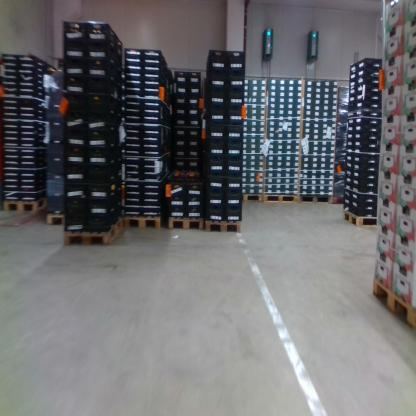pallet: (369, 273, 415, 336), (62, 216, 125, 250), (339, 205, 376, 231), (123, 213, 168, 234), (167, 210, 207, 233), (205, 214, 245, 235), (5, 196, 46, 212), (44, 208, 77, 227), (263, 190, 300, 206), (301, 190, 333, 206), (234, 190, 263, 205), (332, 190, 347, 206)
